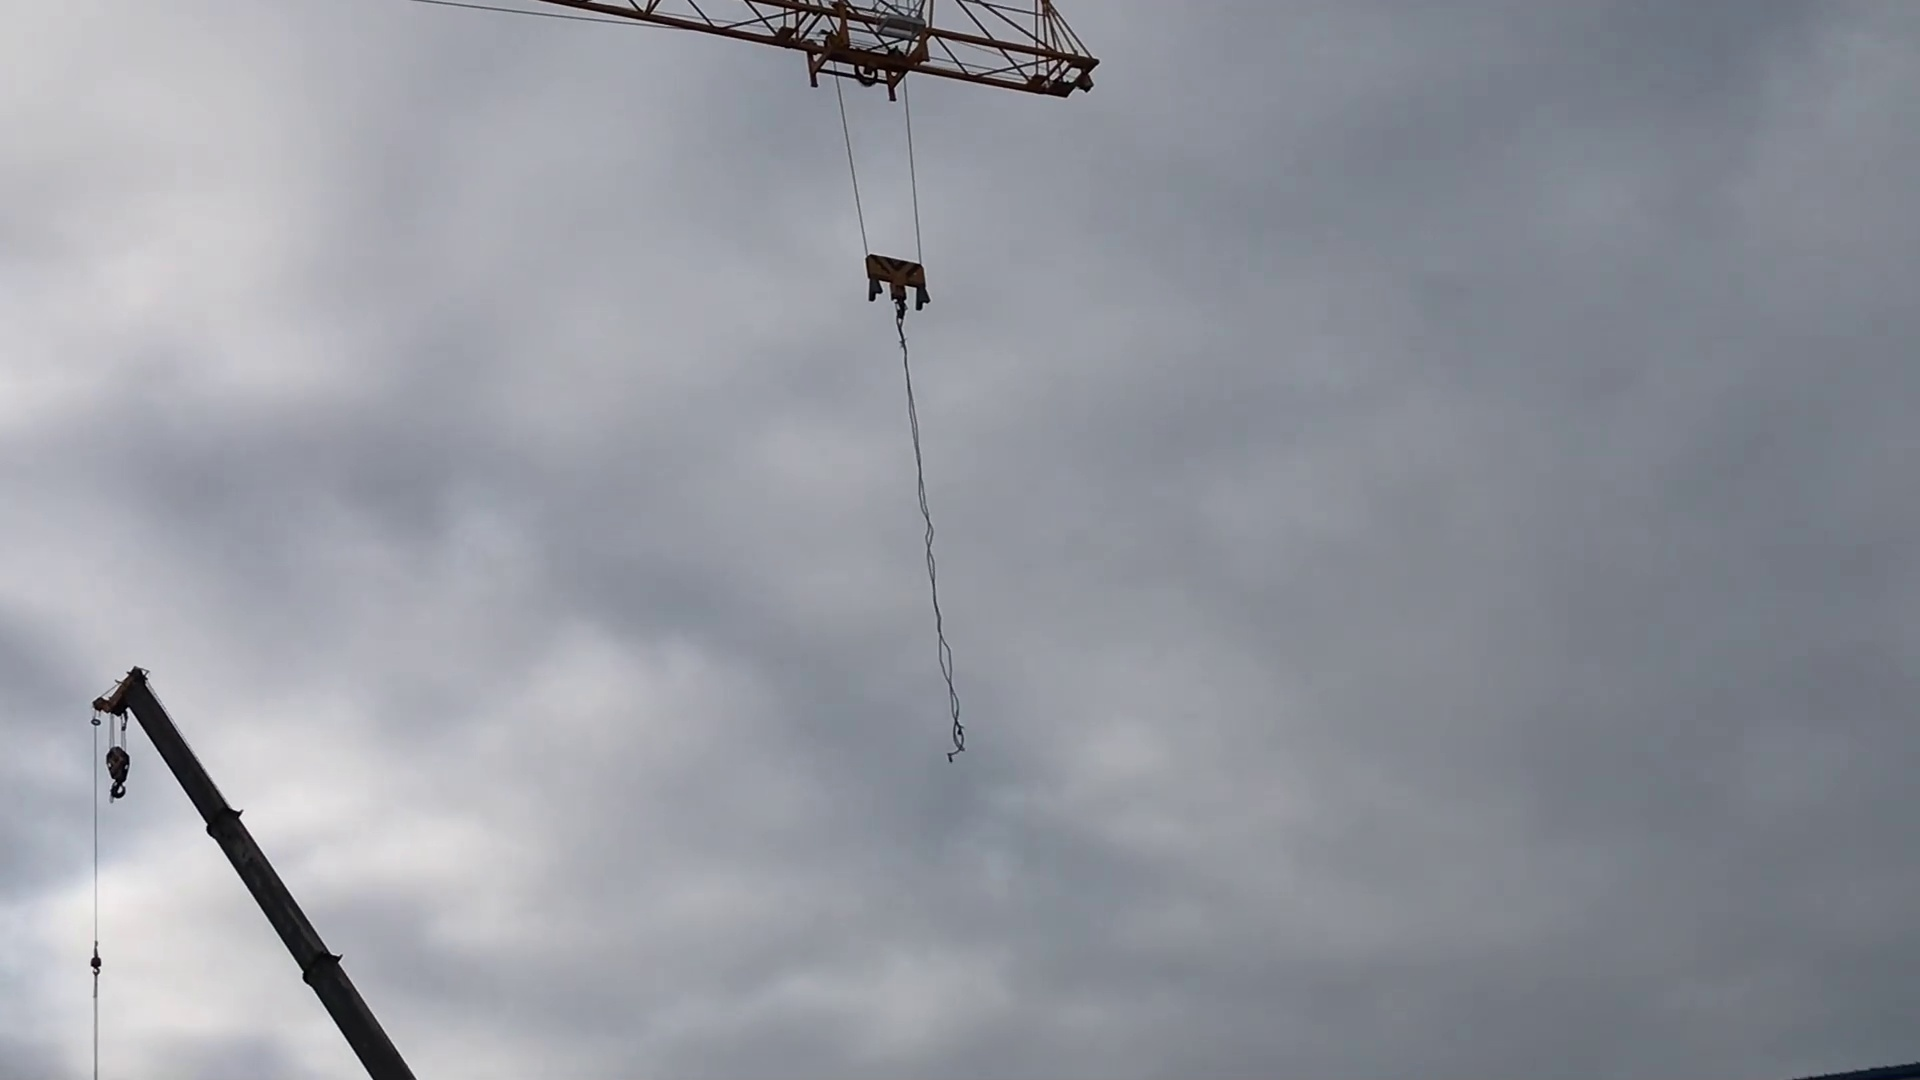hook: (860, 251, 935, 319)
